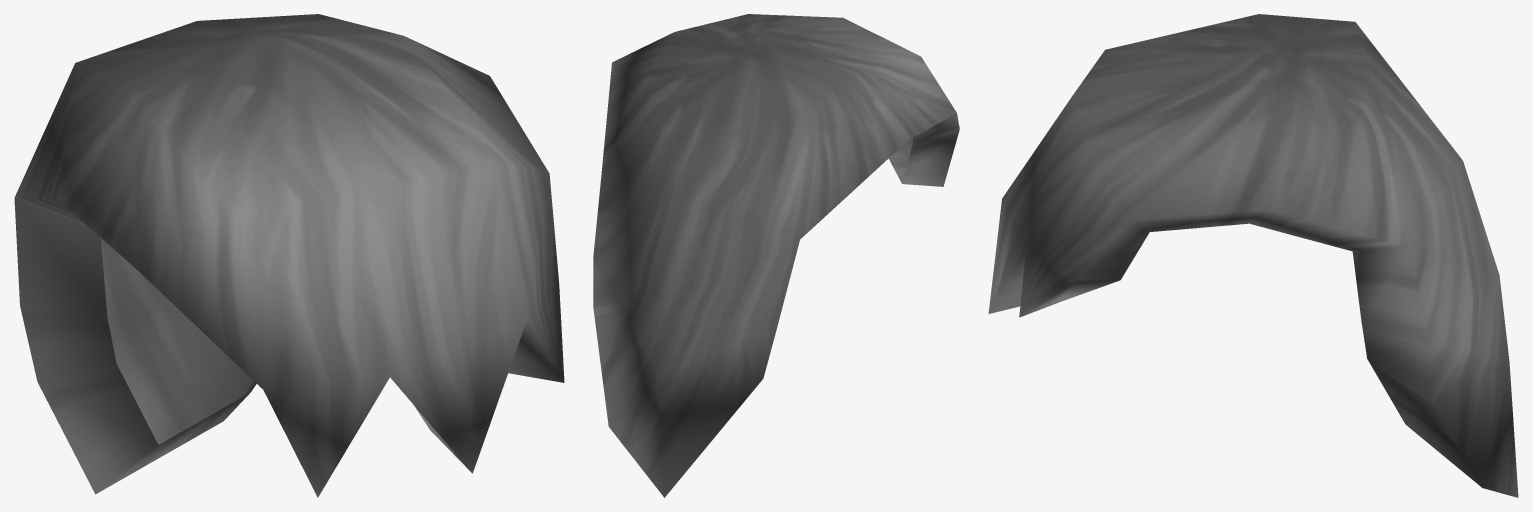
The model's file is NPC_Hair_007.fbx.
3 views of the same model, side by side, from view 1: azimuth 30°, elevation 25°; view 2: azimuth 150°, elevation 25°; view 3: azimuth 270°, elevation 25° (orthographic). The views are drawn at different scales.
Parts seen in each view (by area): view 1: NPC_Hair_007; view 2: NPC_Hair_007; view 3: NPC_Hair_007.
Part boxes in pixels (x1,y1,x2,y2): NPC_Hair_007: [14, 14, 564, 497]; NPC_Hair_007: [593, 14, 959, 497]; NPC_Hair_007: [988, 14, 1518, 497].
Size of the model in its own units: 26.2 by 32.68 by 34.44.
